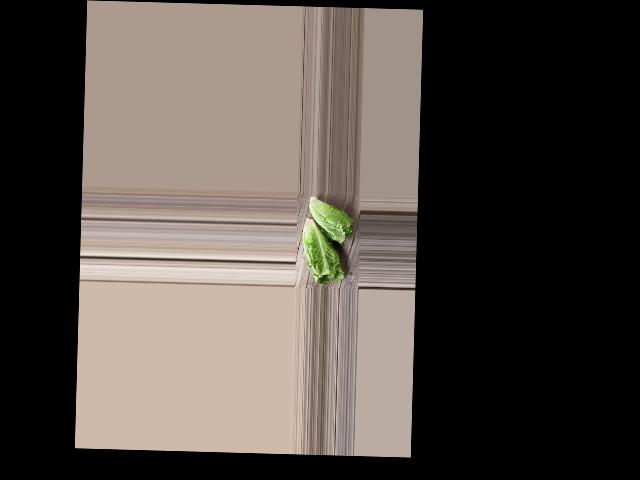lettuce: (306, 193, 357, 245)
